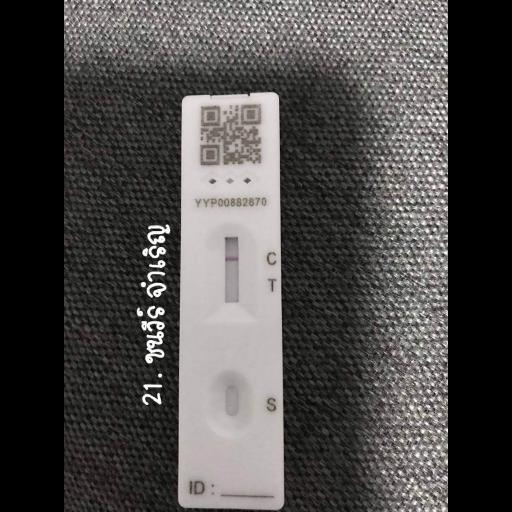Neg: (180, 91, 282, 509)
